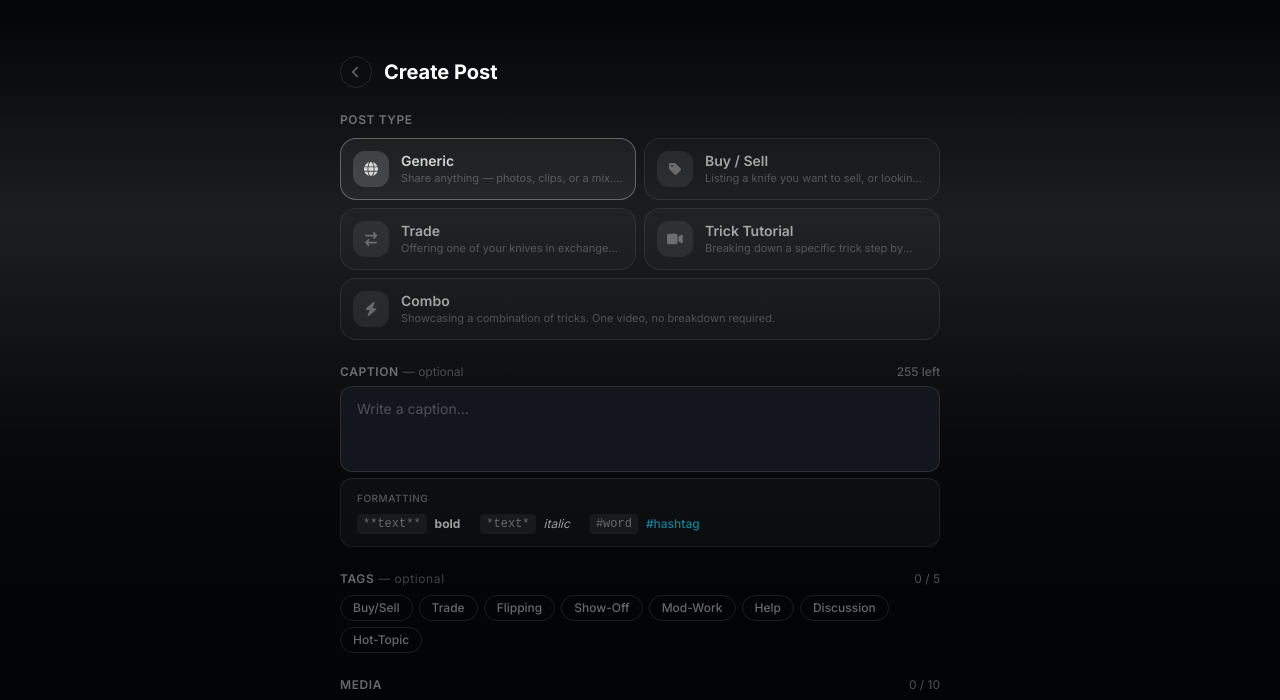
Test: CreatePostPage — layout selection › switches to Trick Tutorial and restricts uploads to a single video
Click the button "Breaking down a specific trick step by step with a single instructional video.". click: (792, 239)
box: [644, 208, 940, 270]
(page scrolled)
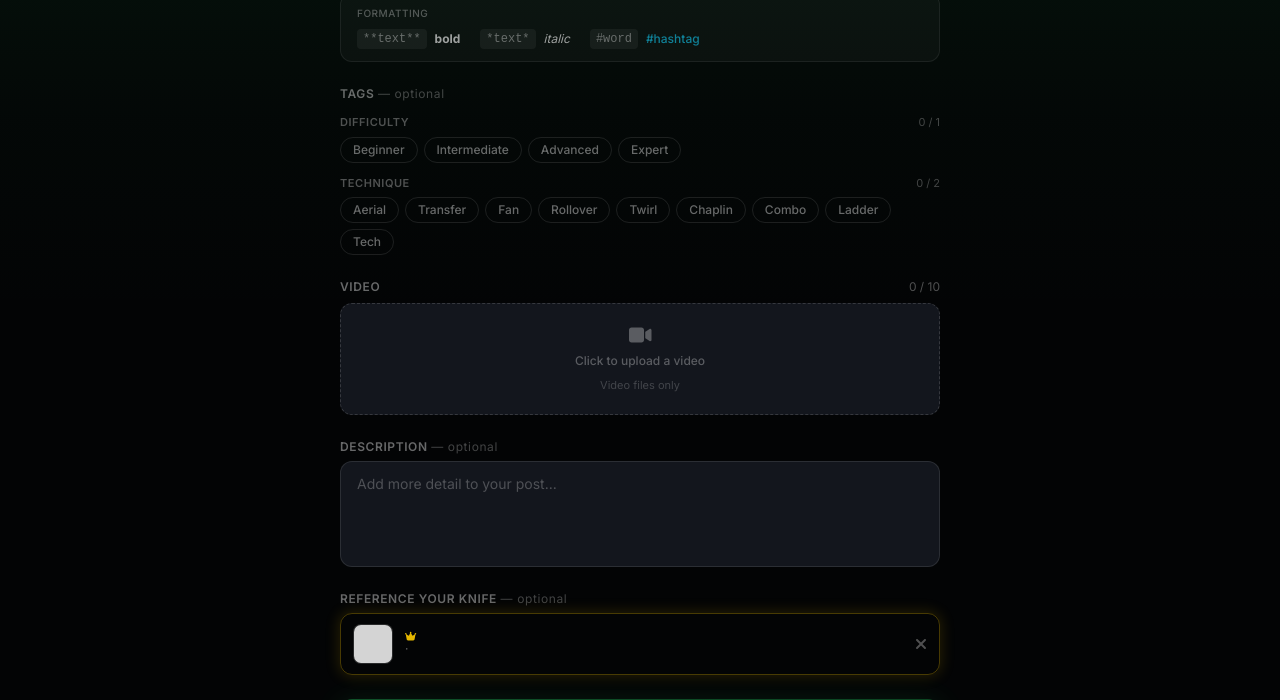
Check: the text "Click to upload a video" is shown, box [575, 353, 705, 369]
